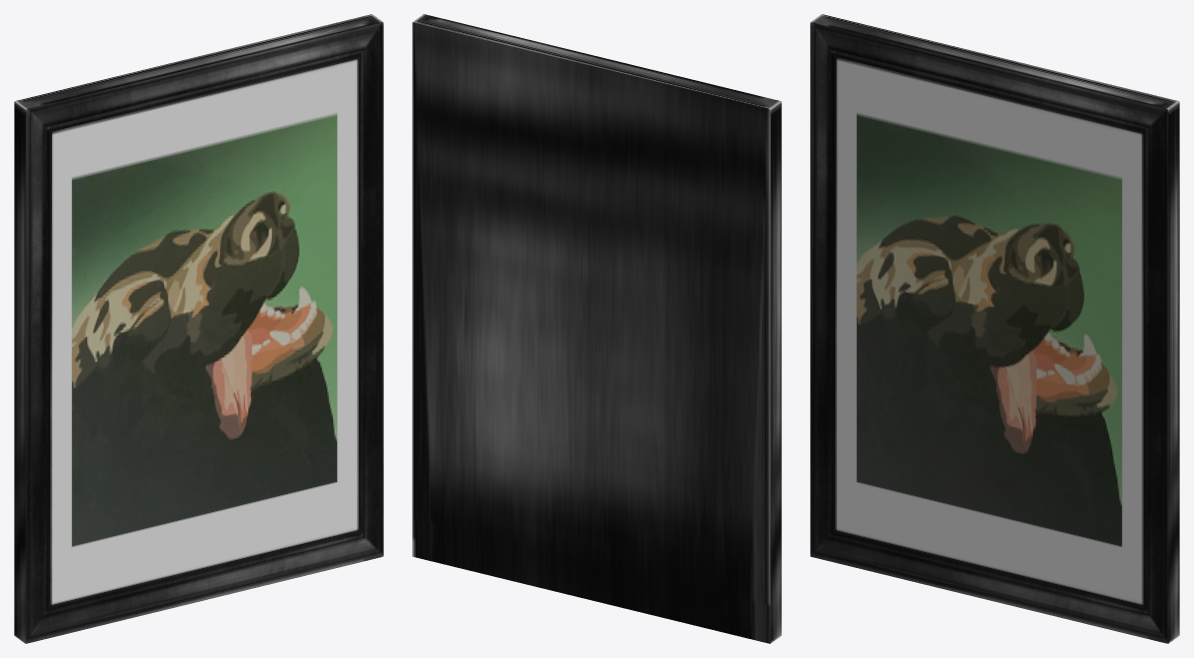
File: archPoster.fbx
3 renders of one model, left to right at view 1: azimuth 30°, elevation 25°; view 2: azimuth 150°, elevation 25°; view 3: azimuth 330°, elevation 25°, orthographic.
Visible parts, largest first — view 1: pCube1; view 2: pCube1; view 3: pCube1.
Boxes of the visible parts, x1,y1,x2,y2 form: pCube1: [14, 14, 383, 643]; pCube1: [412, 14, 781, 643]; pCube1: [810, 14, 1179, 643].
Size of the model in its own units: 1.47 by 2.1 by 0.0802.
1 material, 1 textured.
